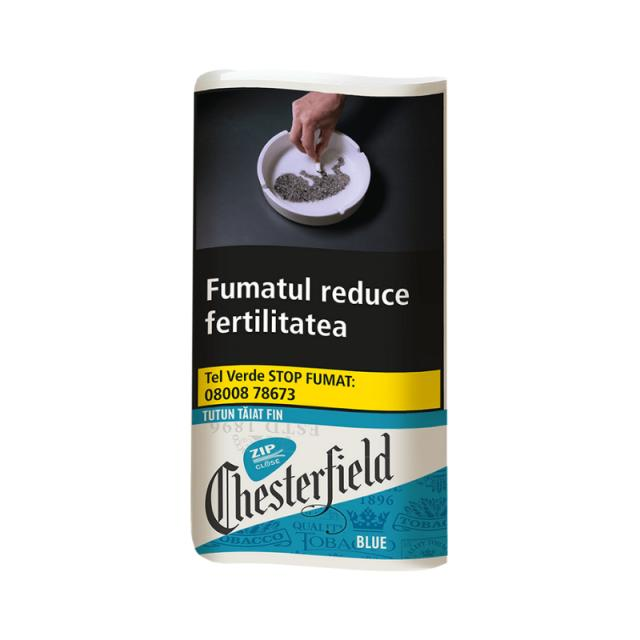chesterfield: (190, 74, 457, 570)
